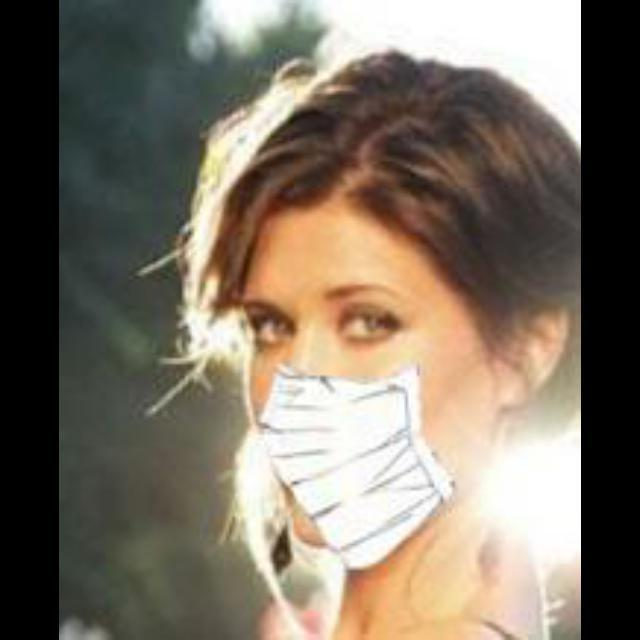suspicion: (187, 85, 548, 557)
